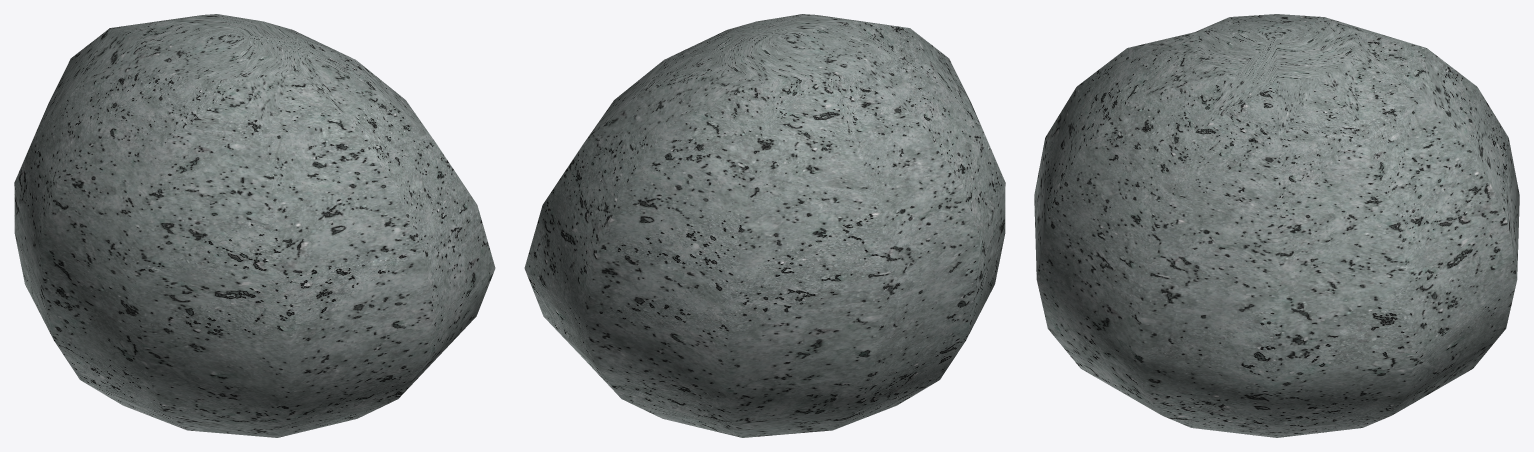
The model's file is rock2fbx.fbx.
The picture shows the model from 3 angles, left to right: view 1: azimuth 30°, elevation 25°; view 2: azimuth 150°, elevation 25°; view 3: azimuth 270°, elevation 25°; orthographic projection.
Visible parts, largest first — view 1: rock_2; view 2: rock_2; view 3: rock_2.
Part boxes in pixels (<box>): rock_2: <box>14,14,495,437</box>; rock_2: <box>524,14,1005,437</box>; rock_2: <box>1034,14,1519,437</box>.
Size of the model in its own units: 3.88 by 3.28 by 3.94.
